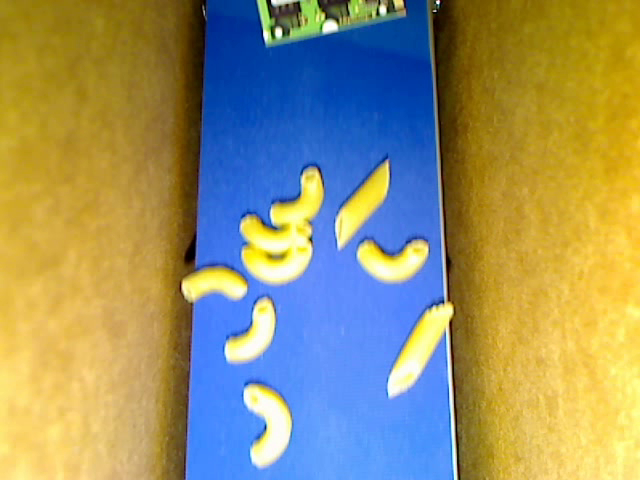elbow: (241, 382, 293, 470), (223, 295, 277, 366), (269, 165, 324, 228), (240, 240, 313, 287), (356, 237, 428, 284), (238, 212, 313, 254), (180, 265, 248, 302)
penne: (386, 301, 455, 398), (335, 158, 389, 252)
